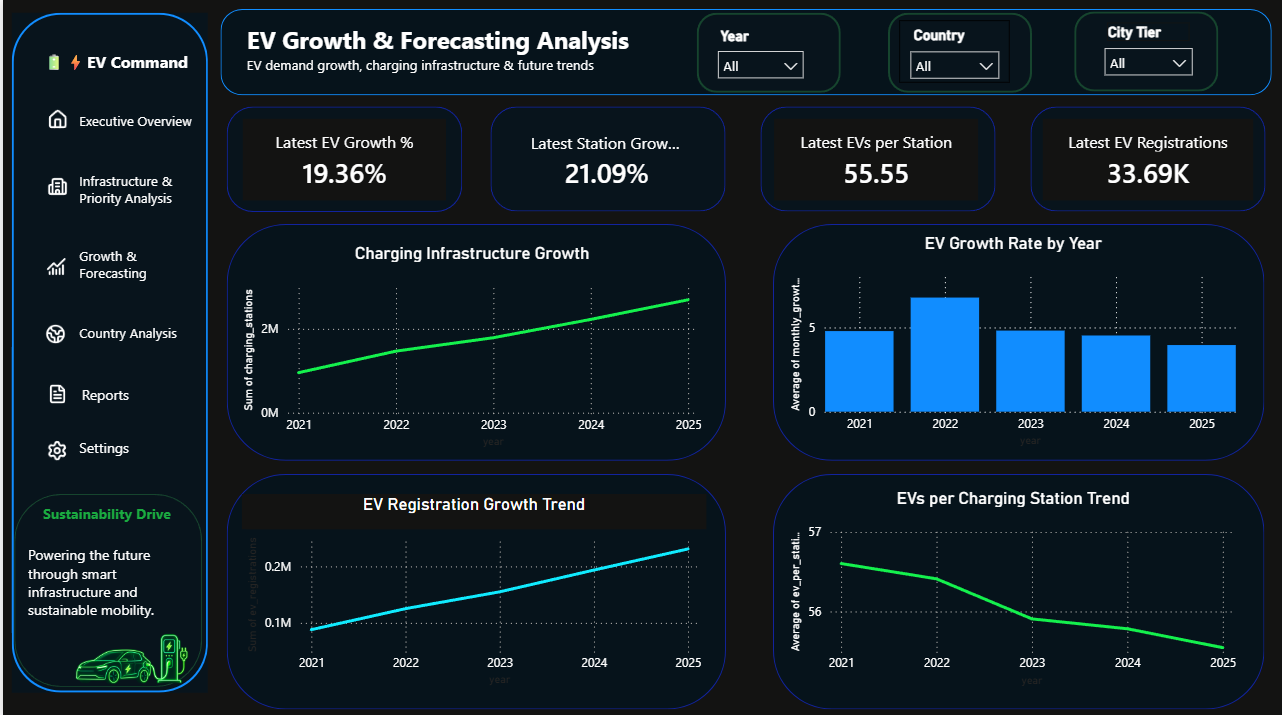

What the dashboard file says about the page in this screenshot:
{"tool":"powerbi","page":{"name":"3.Growth & Forecasting","canvas":[1280,720],"ordinal":2},"visuals":[{"type":"shape","box":[217.5,10.3,1051.2,86.2],"z":0},{"type":"textbox","box":[239.3,19.6,409.8,88.3],"z":1000},{"type":"shape","box":[8.6,13.5,196.3,679.8],"z":2000},{"type":"shape","box":[223.9,475,499.2,235.5],"z":3000},{"type":"lineChart","title":"EV Registration Growth Trend","fields":{"Category":["ev_charging_analysis ev_data.year"],"Y":["Sum(ev_charging_analysis ev_data.ev_registrations)"]},"box":[239.3,495.4,464.5,196.9],"z":4000},{"type":"shape","box":[223.9,225.2,499.2,236.8],"z":5000},{"type":"lineChart","title":"Charging Infrastructure Growth","fields":{"Category":["ev_charging_analysis ev_data.year"],"Y":["Sum(ev_charging_analysis ev_data.charging_stations)"]},"box":[235.5,243.2,468.4,209.7],"z":6000},{"type":"shape","box":[769.4,225.2,491.5,236.8],"z":7000},{"type":"shape","box":[769.4,474.8,491.5,235.5],"z":8000},{"type":"lineChart","title":"EVs per Charging Station Trend","fields":{"Y":["Avg(ev_charging_analysis ev_data.ev_per_station)"],"Category":["ev_charging_analysis ev_data.year"]},"box":[782.3,488.9,455.5,203.3],"z":9000},{"type":"clusteredColumnChart","title":"EV Growth Rate by Year","fields":{"Category":["ev_charging_analysis ev_data.year"],"Y":["Avg(ev_charging_analysis ev_data.monthly_growth_pct)"]},"box":[782.3,234.2,455.5,218.7],"z":10000},{"type":"shape","box":[693.3,13.5,144,80],"z":11000},{"type":"shape","box":[885.2,14.2,144,80],"z":12000},{"type":"shape","box":[1071.8,12.9,144.1,80],"z":13000},{"type":"slicer","fields":{"Values":["ev_charging_analysis ev_data.year"]},"box":[704.3,22.1,107.5,63.8],"z":14000},{"type":"slicer","fields":{"Values":["ev_charging_analysis ev_data.country"]},"box":[896.8,21.9,110.4,62.6],"z":15000},{"type":"slicer","fields":{"Values":["ev_charging_analysis ev_data.city_tier"]},"box":[1091.1,19.3,108,66],"z":16000},{"type":"textbox","box":[25.8,46.6,174.2,47.9],"z":17000},{"type":"textbox","box":[71.2,108,122.7,44.2],"z":18000},{"type":"textbox","box":[71.2,168.1,122.7,56.4],"z":19000},{"type":"textbox","box":[71.2,242.9,98.2,49.1],"z":20000},{"type":"textbox","box":[71.2,320.2,109.2,39.3],"z":21000},{"type":"image","box":[39.3,110.4,31.9,20.9],"z":22000},{"type":"image","box":[44.2,177.9,21,20],"z":23000},{"type":"image","box":[42.9,257.7,21,20],"z":24000},{"type":"image","box":[42.9,325.2,20.7,20],"z":25000},{"type":"textbox","box":[73.6,381.6,72.4,46.6],"z":26000},{"type":"image","box":[44.2,385.3,21,20],"z":27000},{"type":"textbox","box":[71.2,434.4,90.8,36.8],"z":28000},{"type":"image","box":[44.2,441.7,20.7,20.7],"z":29000},{"type":"shape","box":[11.6,495.4,187.9,193],"z":30000},{"type":"textbox","box":[35.6,500.6,147.2,40.5],"z":31000},{"type":"textbox","box":[19.6,541.1,180.4,93.3],"z":32000},{"type":"image","box":[61.4,619.6,128.9,84.4],"z":33000},{"type":"shape","box":[223.9,108.1,235.5,105.5],"z":34000},{"type":"shape","box":[487.7,108.1,235,105],"z":35000},{"type":"shape","box":[757.9,108.1,235,105],"z":36000},{"type":"shape","box":[1028.1,108.1,235,105],"z":37000},{"type":"cardVisual","title":"Latest EV Growth %","fields":{"Data":["ev_charging_analysis ev_data.Latest EV Growth %"]},"box":[235.5,114.5,213.6,91.4],"z":38000},{"type":"cardVisual","title":"Latest EV Growth %","fields":{"Data":["ev_charging_analysis ev_data.Latest Station Growth %"]},"box":[499.2,115.8,210,90],"z":39000},{"type":"cardVisual","title":"Latest EV Growth %","fields":{"Data":["ev_charging_analysis ev_data.Latest EVs per Station"]},"box":[766.9,114.5,214.9,91.4],"z":40000},{"type":"cardVisual","title":"Latest EV Growth %","fields":{"Data":["ev_charging_analysis ev_data.Latest EV Registrations"]},"box":[1034.5,114.5,220,91.4],"z":41000}]}

Visuals, with their boxes on the page's 1280x720 design canvas (x1, y1, x2, y2). These are canvas units, not pixel positions in the 1282x715 screenshot, which may show the page scaled, cropped or inside an application window:
shape: crop(218, 10, 1269, 96)
textbox: crop(239, 20, 649, 108)
shape: crop(9, 14, 205, 693)
shape: crop(224, 475, 723, 710)
"EV Registration Growth Trend" lineChart: crop(239, 495, 704, 692)
shape: crop(224, 225, 723, 462)
"Charging Infrastructure Growth" lineChart: crop(236, 243, 704, 453)
shape: crop(769, 225, 1261, 462)
shape: crop(769, 475, 1261, 710)
"EVs per Charging Station Trend" lineChart: crop(782, 489, 1238, 692)
"EV Growth Rate by Year" clusteredColumnChart: crop(782, 234, 1238, 453)
shape: crop(693, 14, 837, 94)
shape: crop(885, 14, 1029, 94)
shape: crop(1072, 13, 1216, 93)
slicer - ev_charging_analysis ev_data.year: crop(704, 22, 812, 86)
slicer - ev_charging_analysis ev_data.country: crop(897, 22, 1007, 84)
slicer - ev_charging_analysis ev_data.city_tier: crop(1091, 19, 1199, 85)
textbox: crop(26, 47, 200, 94)
textbox: crop(71, 108, 194, 152)
textbox: crop(71, 168, 194, 224)
textbox: crop(71, 243, 169, 292)
textbox: crop(71, 320, 180, 360)
image: crop(39, 110, 71, 131)
image: crop(44, 178, 65, 198)
image: crop(43, 258, 64, 278)
image: crop(43, 325, 64, 345)
textbox: crop(74, 382, 146, 428)
image: crop(44, 385, 65, 405)
textbox: crop(71, 434, 162, 471)
image: crop(44, 442, 65, 462)
shape: crop(12, 495, 200, 688)
textbox: crop(36, 501, 183, 541)
textbox: crop(20, 541, 200, 634)
image: crop(61, 620, 190, 704)
shape: crop(224, 108, 459, 214)
shape: crop(488, 108, 723, 213)
shape: crop(758, 108, 993, 213)
shape: crop(1028, 108, 1263, 213)
"Latest EV Growth %" cardVisual: crop(236, 114, 449, 206)
"Latest EV Growth %" cardVisual: crop(499, 116, 709, 206)
"Latest EV Growth %" cardVisual: crop(767, 114, 982, 206)
"Latest EV Growth %" cardVisual: crop(1034, 114, 1254, 206)
